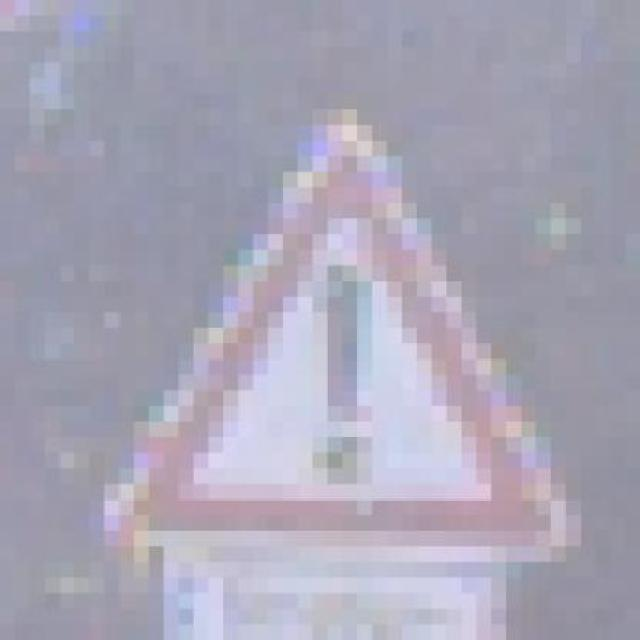Attention Please-: (59, 109, 626, 562)
